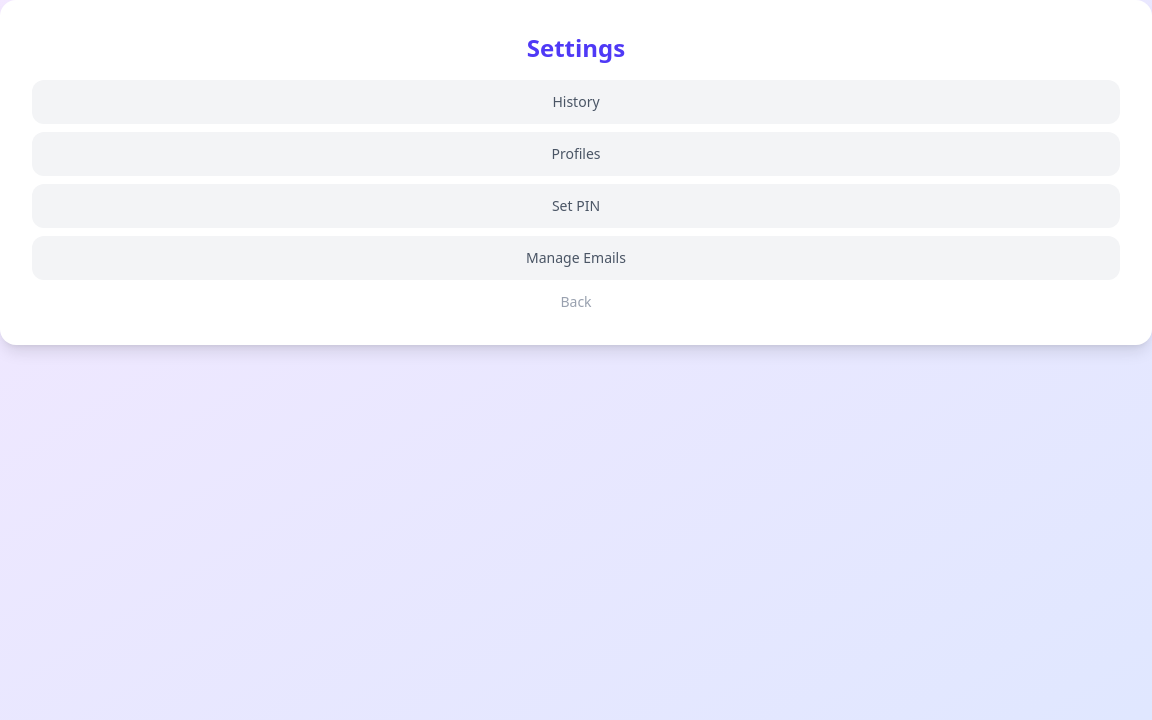
Test: AdminPanel › shows profiles view from settings-hub with existing profiles
The width and height of the screenshot is (1152, 720).
Click the button "Profiles" at {"x": 576, "y": 154}, box [32,132,1120,176]
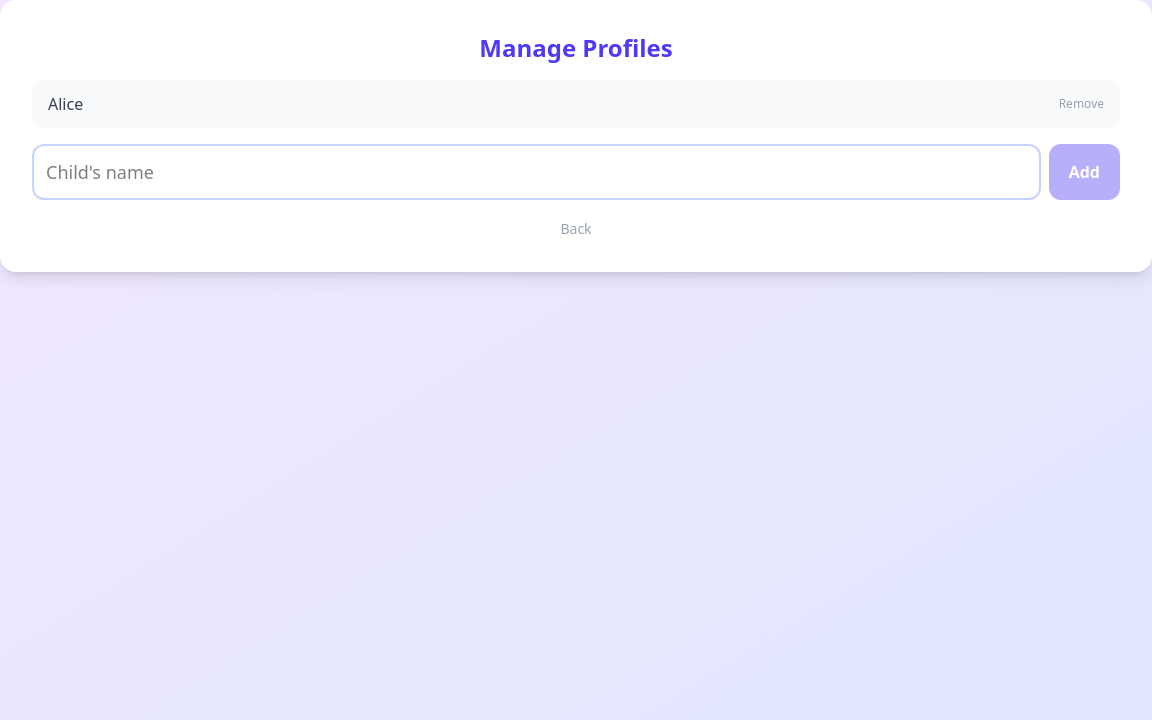
Check: the heading "Manage Profiles" is shown, box [479,31,673,64]
Check: the text "Alice" is shown, box [48,92,83,116]
